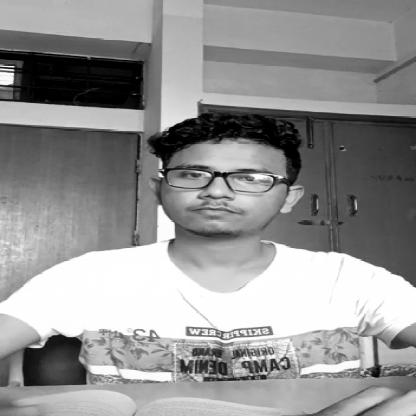Normal: (147, 116, 313, 228)
